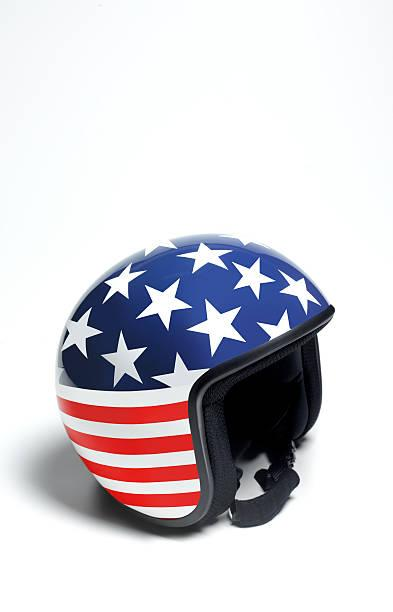helmet: (35, 207, 356, 545)
